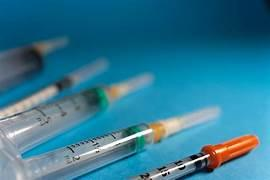Syringe: (1, 107, 218, 178), (0, 73, 152, 155), (0, 58, 108, 118), (131, 135, 258, 179), (0, 37, 67, 91)
